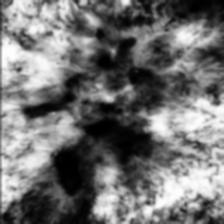Potentially Malignant Skin Tumors: (50, 148, 90, 192), (86, 115, 118, 141), (91, 50, 113, 70)
